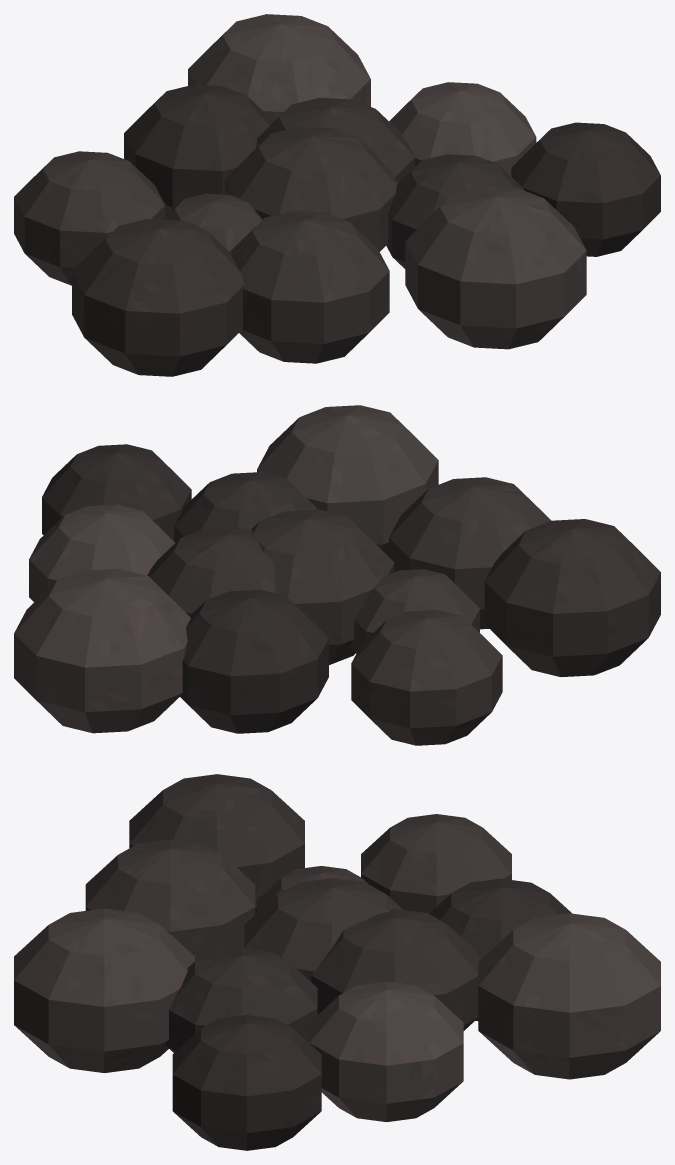
Rendered from seed_canola.glb.
3 views of the same model, one above another, from view 1: azimuth 30°, elevation 25°; view 2: azimuth 150°, elevation 25°; view 3: azimuth 270°, elevation 25° (orthographic).
Visible parts, largest first — view 1: block_grain 8, block_grain 10, block_grain 5, block_grain 11, block_grain 0, block_grain 7, block_grain 9, block_grain 4, block_grain 6, block_grain 3, block_grain 1, block_grain 2; view 2: block_grain 9, block_grain 10, block_grain 4, block_grain 7, block_grain 8, block_grain 5, block_grain 0, block_grain 11, block_grain 6, block_grain 1, block_grain 3, block_grain 2; view 3: block_grain 9, block_grain 8, block_grain 6, block_grain 11, block_grain 5, block_grain 10, block_grain 1, block_grain 7, block_grain 3, block_grain 0, block_grain 4, block_grain 2.
Boxes of the visible parts, x1,y1,x2,y2 form: block_grain 8: [405, 186, 586, 349]; block_grain 10: [72, 218, 244, 376]; block_grain 5: [229, 211, 389, 363]; block_grain 11: [511, 122, 660, 256]; block_grain 0: [225, 126, 397, 251]; block_grain 7: [14, 151, 165, 285]; block_grain 9: [188, 14, 370, 121]; block_grain 4: [124, 84, 272, 216]; block_grain 6: [389, 82, 536, 175]; block_grain 3: [386, 154, 524, 268]; block_grain 1: [255, 97, 415, 183]; block_grain 2: [163, 193, 262, 251]; block_grain 9: [14, 568, 190, 733]; block_grain 10: [484, 519, 660, 676]; block_grain 4: [180, 589, 328, 733]; block_grain 7: [351, 610, 502, 745]; block_grain 8: [257, 405, 438, 556]; block_grain 5: [389, 477, 551, 629]; block_grain 0: [251, 509, 394, 664]; block_grain 11: [42, 444, 191, 541]; block_grain 6: [29, 504, 174, 602]; block_grain 1: [147, 526, 275, 615]; block_grain 3: [174, 472, 317, 542]; block_grain 2: [350, 569, 479, 653]; block_grain 9: [478, 913, 660, 1079]; block_grain 8: [14, 908, 194, 1072]; block_grain 6: [309, 981, 463, 1122]; block_grain 11: [172, 1015, 321, 1150]; block_grain 5: [85, 839, 255, 961]; block_grain 10: [129, 774, 304, 914]; block_grain 1: [311, 909, 479, 1030]; block_grain 7: [361, 814, 511, 913]; block_grain 3: [166, 948, 317, 1052]; block_grain 0: [244, 878, 402, 981]; block_grain 4: [429, 878, 571, 1020]; block_grain 2: [256, 866, 367, 912].
Size of the model in its own units: 0.114 by 0.027 by 0.1084.
Materials: 1 (1 with a texture image).
